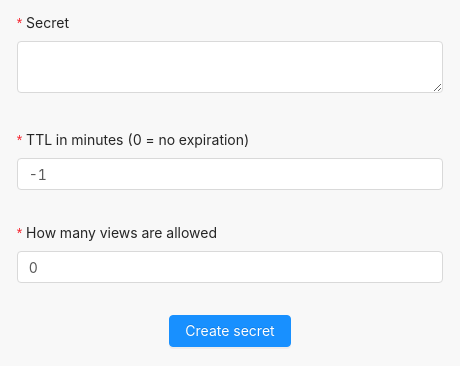
Test: pFromNewSecret › when the secret field is empty and we submit a form, an error shown
The image size is (460, 366).
Click the button "Create secret" at coordinates (230, 331), box [169, 315, 291, 347]
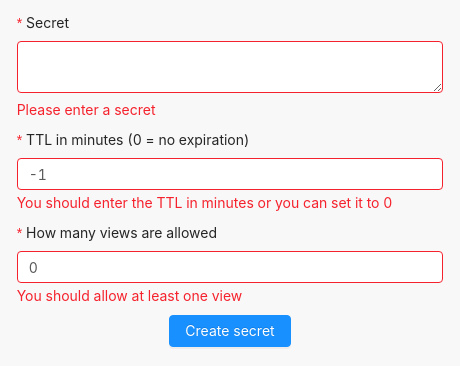
Expected: the element with test id "a-form-model-item.secret" is shown, [17, 12, 443, 124]
Expected: the text "Please enter a secret" is shown, [17, 101, 156, 118]
